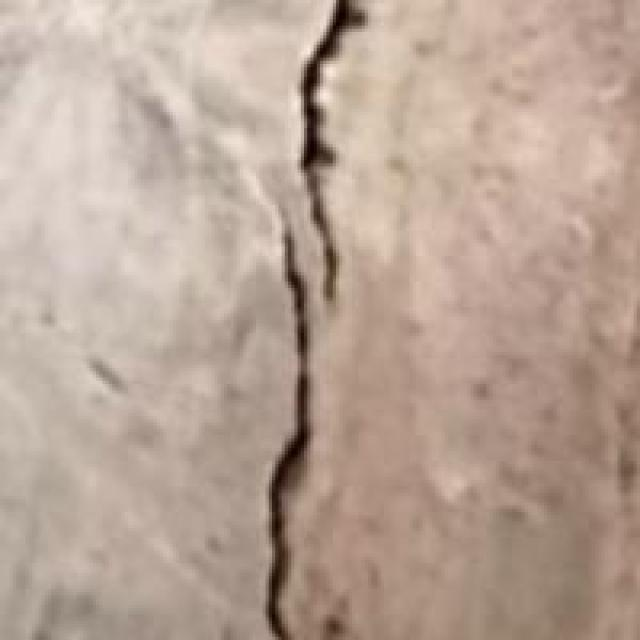Crack: (230, 0, 396, 637)
